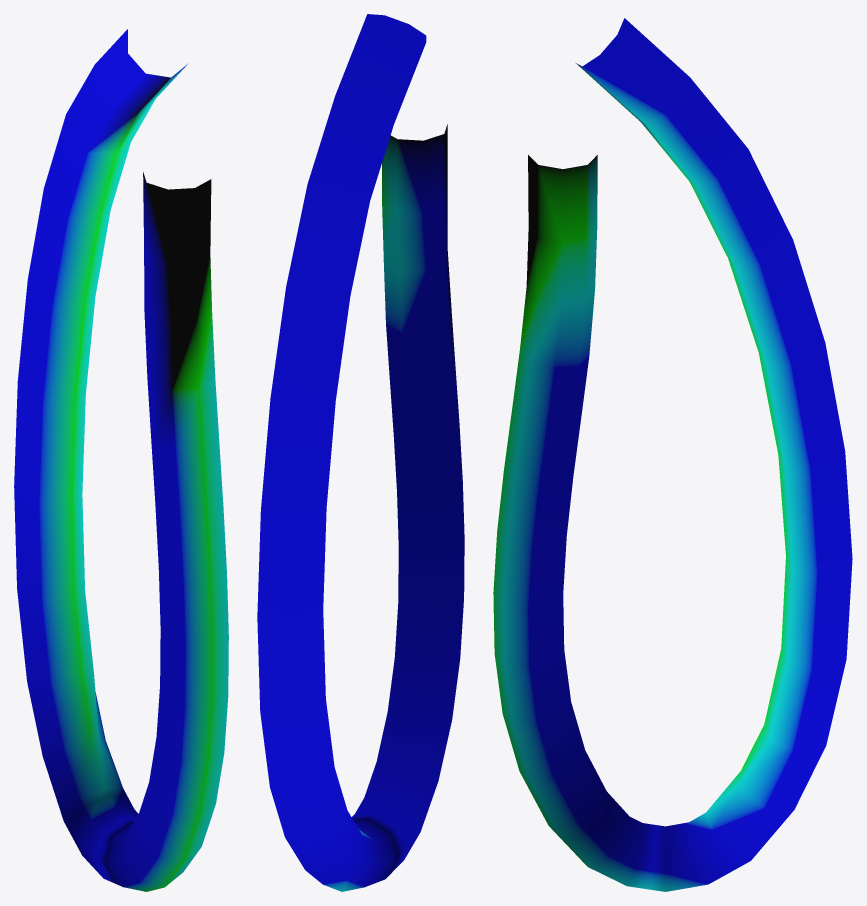
Rendered from WCCableBest.glb.
3 views of the same model, side by side, from view 1: azimuth 30°, elevation 25°; view 2: azimuth 150°, elevation 25°; view 3: azimuth 270°, elevation 25° (orthographic). The views are drawn at different scales.
Visible parts, largest first — view 1: PowerflowWallConnectorStowed-Display; view 2: PowerflowWallConnectorStowed-Display; view 3: PowerflowWallConnectorStowed-Display.
Part boxes in pixels (x1,y1,x2,y2): PowerflowWallConnectorStowed-Display: [14, 29, 228, 891]; PowerflowWallConnectorStowed-Display: [257, 14, 464, 891]; PowerflowWallConnectorStowed-Display: [493, 18, 852, 891].
Bounding box in the file's own units: 0.03 × 0.4139 × 0.1543.
